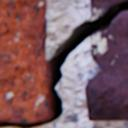brick: (0, 0, 51, 122)
broken_brick: (86, 10, 127, 119), (91, 0, 126, 19)
crack: (0, 0, 127, 127)
